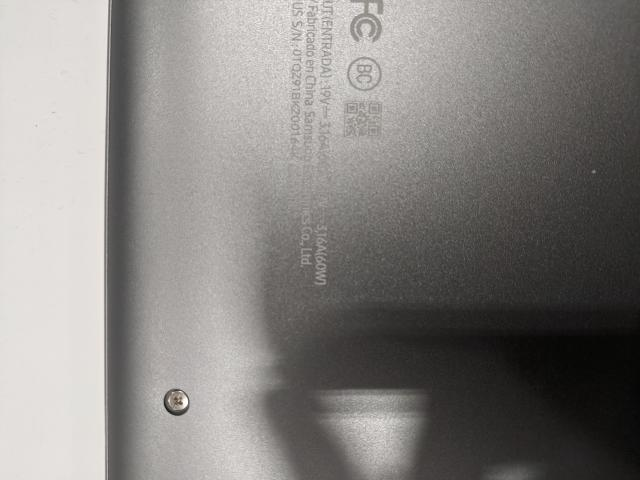CRS: (168, 388, 190, 414)
